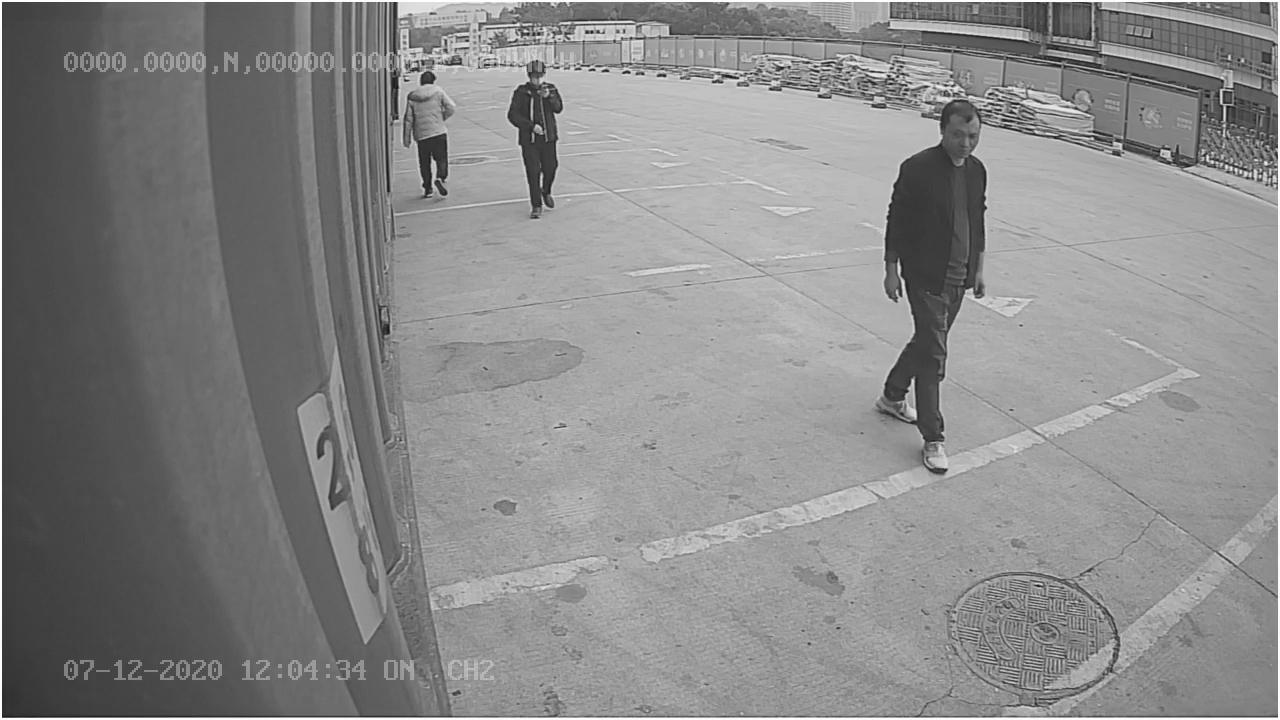person: (875, 94, 995, 479)
